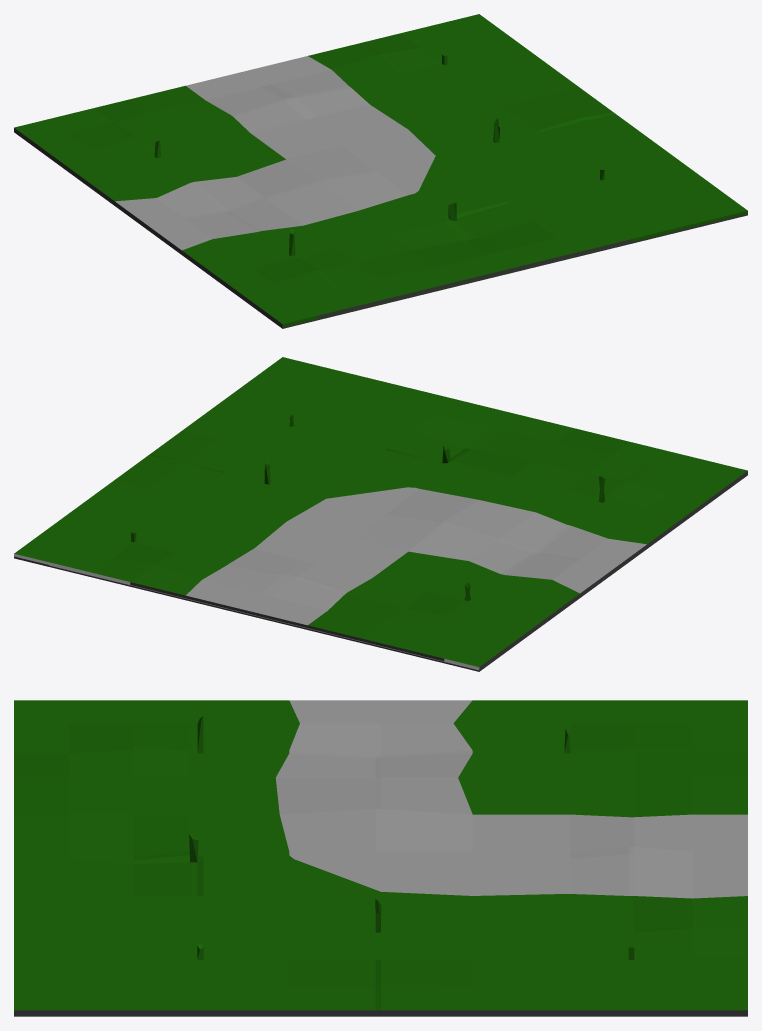
File: turn_lane_map.fbx
3 renders of one model, top to bottom at view 1: azimuth 30°, elevation 25°; view 2: azimuth 150°, elevation 25°; view 3: azimuth 270°, elevation 25°, orthographic. The views are drawn at different scales.
Visible parts, largest first — view 1: Cube; view 2: Cube; view 3: Cube.
Boxes of the visible parts, <box> form: Cube: <box>14,14,747,328</box>; Cube: <box>14,357,747,671</box>; Cube: <box>14,700,747,1016</box>.
Bounding box in the file's own units: 40 × 2.53 × 40.
